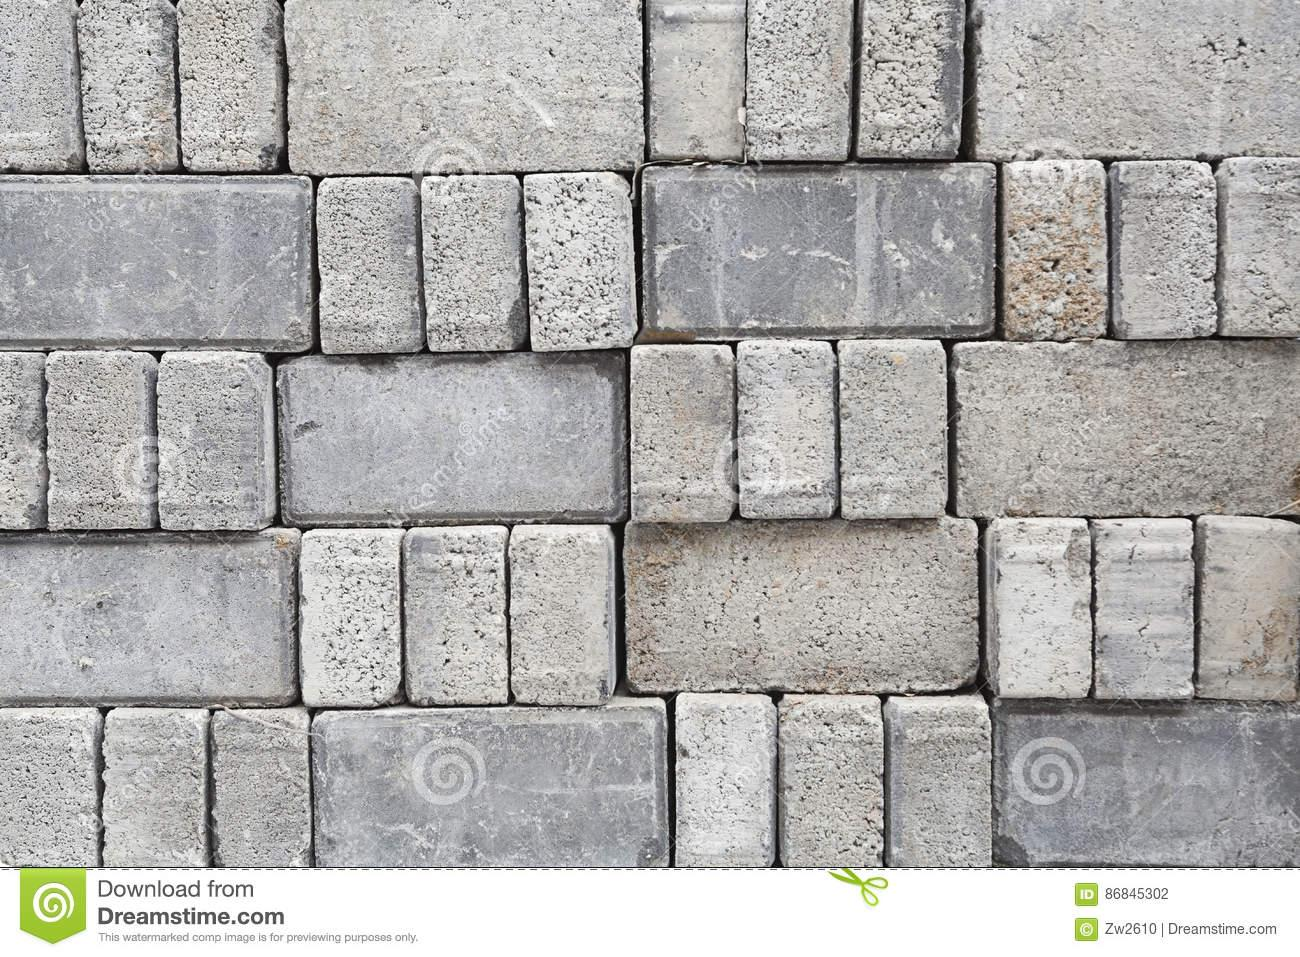brick: (641, 163, 997, 340), (624, 515, 977, 693), (284, 0, 643, 172), (278, 352, 627, 525), (955, 340, 1300, 514), (311, 707, 669, 865), (0, 173, 311, 353), (1, 529, 292, 708), (992, 700, 1300, 865), (974, 0, 1300, 155), (526, 174, 637, 350), (839, 340, 947, 520), (44, 353, 153, 528), (1003, 162, 1109, 339), (157, 352, 263, 529), (317, 177, 421, 354), (404, 527, 508, 705), (1200, 517, 1300, 700), (178, 0, 284, 172), (1095, 518, 1194, 699), (631, 345, 731, 523), (423, 174, 524, 349), (857, 0, 968, 157), (300, 531, 399, 708), (511, 526, 609, 704), (77, 0, 178, 172), (1119, 163, 1216, 340), (739, 342, 837, 517), (996, 520, 1092, 698), (746, 2, 852, 162), (675, 695, 774, 865), (785, 695, 883, 866), (892, 698, 991, 866), (102, 711, 206, 866), (647, 2, 746, 159), (213, 708, 311, 866), (0, 709, 98, 866), (0, 0, 84, 171), (1224, 157, 1300, 335)
